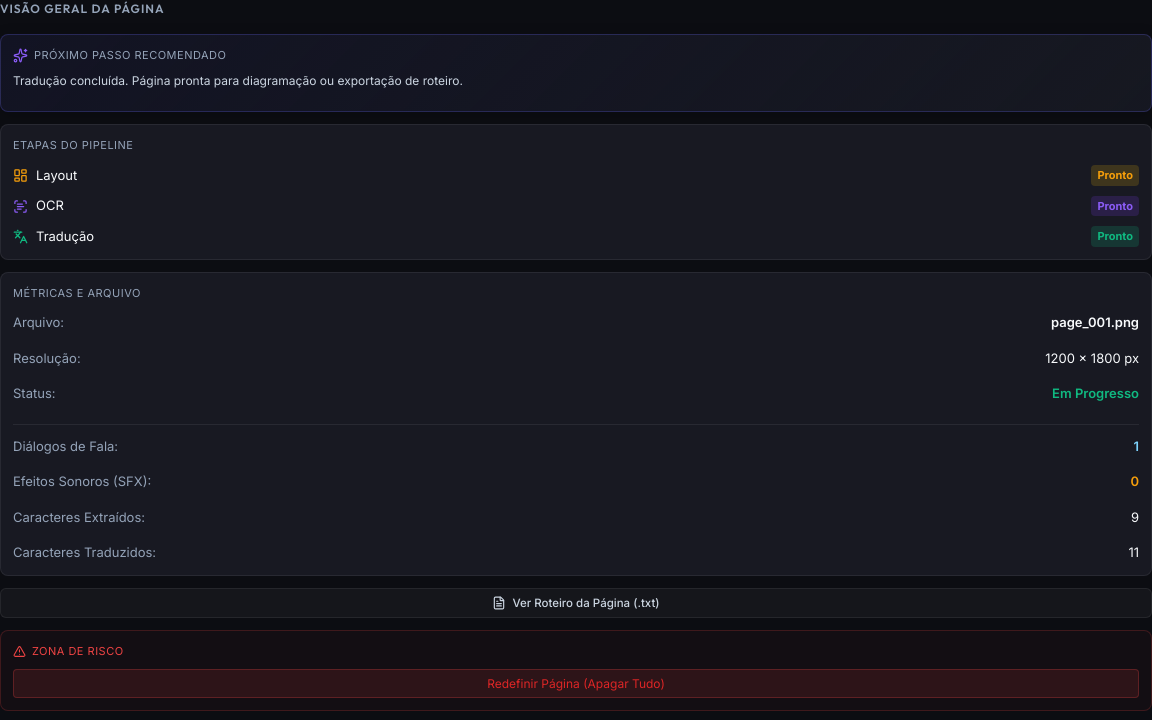
SeamlessOverviewInspector component › opens sequential script preview drawer and displays lines
Expected: the text "Ver Roteiro da Página (.txt)" is shown, [512,596,660,610]
Click the button "Ver Roteiro da Página (.txt)": click(576, 603) [0,588,1151,618]
(page scrolled)
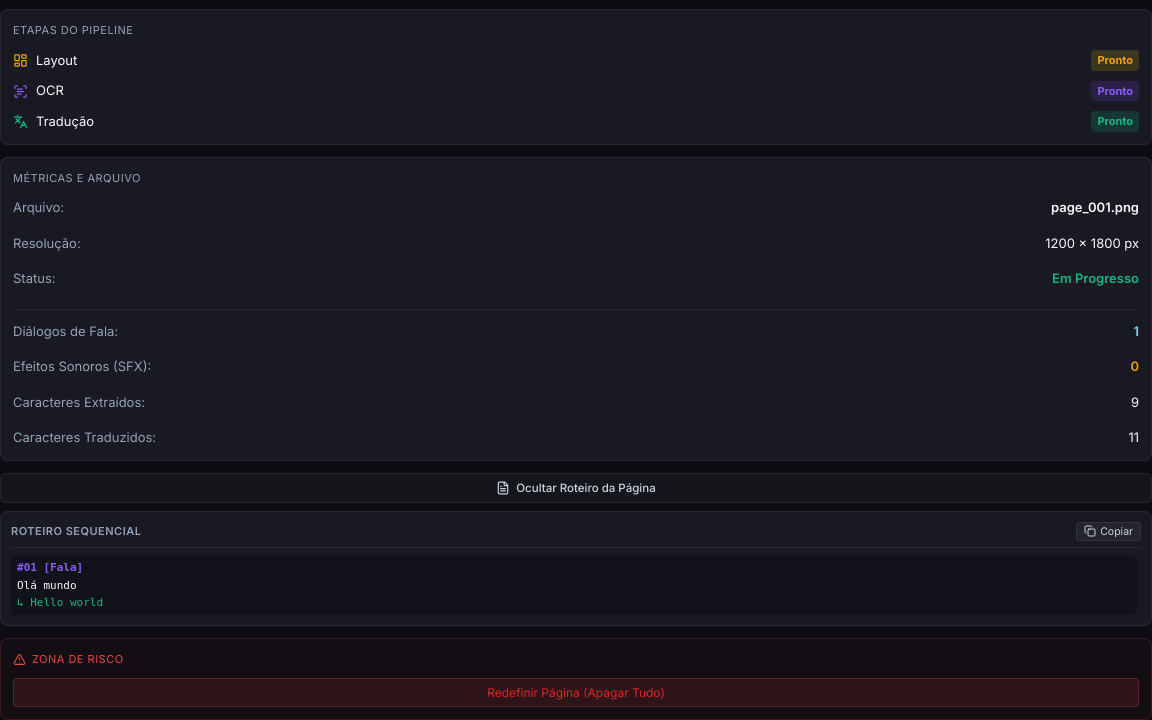
Now the text "Roteiro Sequencial" is shown, box [11,523,142,540]
Now the text "Olá mundo" is shown, box [17,579,77,592]
Now the text "↳ Hello world" is shown, box [17,596,103,609]
